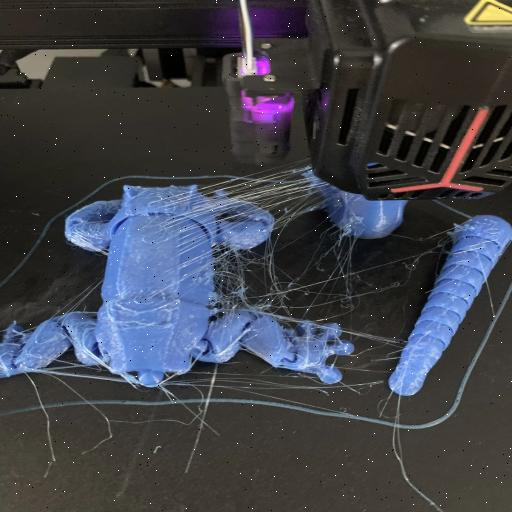stringing: (190, 160, 326, 230), (208, 238, 301, 314), (292, 228, 374, 314), (328, 319, 412, 384), (180, 365, 306, 399)
